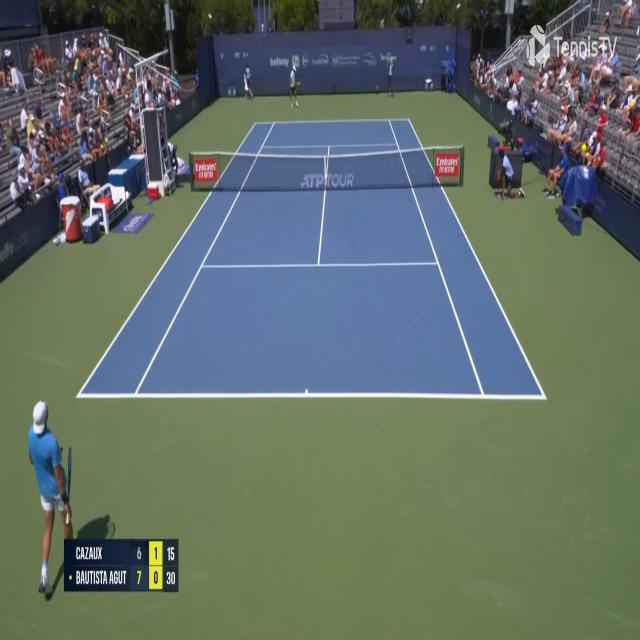tennis-player: (26, 396, 81, 606), (288, 66, 300, 108)
